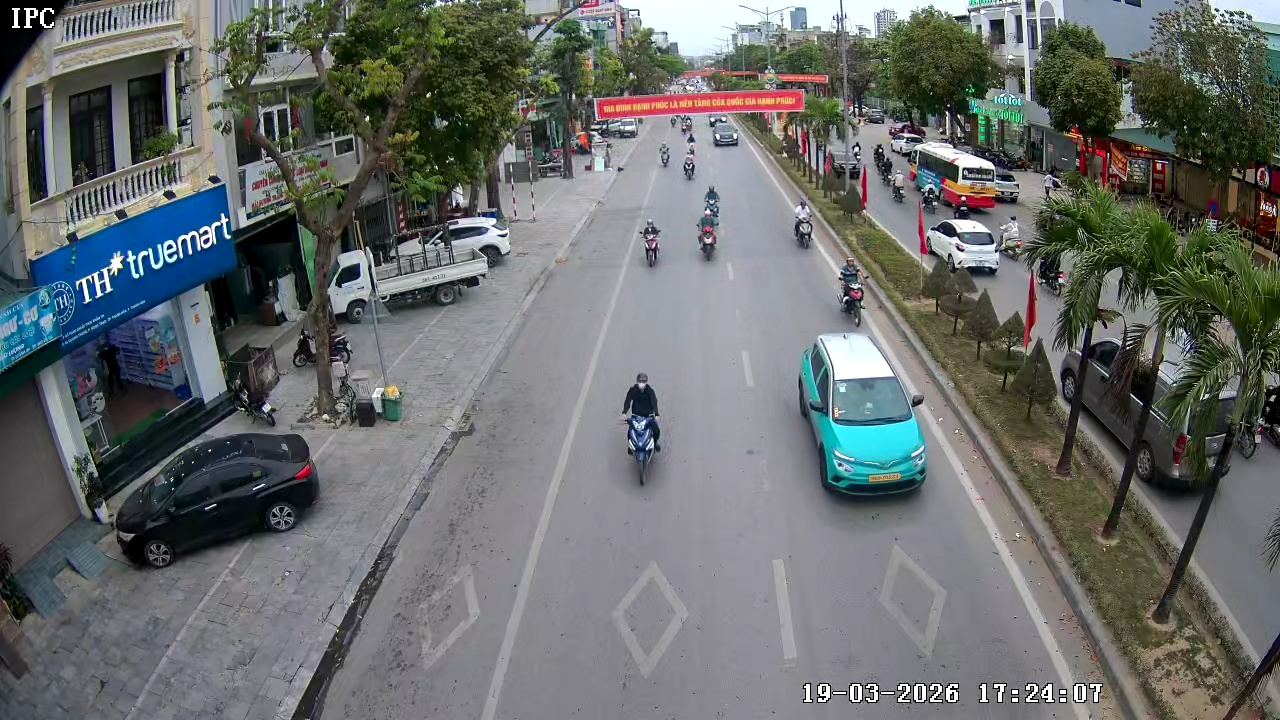car: (108, 426, 322, 568), (795, 331, 929, 496), (922, 218, 1001, 275), (711, 119, 739, 147)
motorbike: (619, 370, 668, 487), (835, 255, 868, 326), (695, 203, 720, 262), (637, 218, 664, 269), (791, 198, 816, 250), (704, 182, 723, 220), (683, 141, 697, 180), (657, 139, 673, 168)
